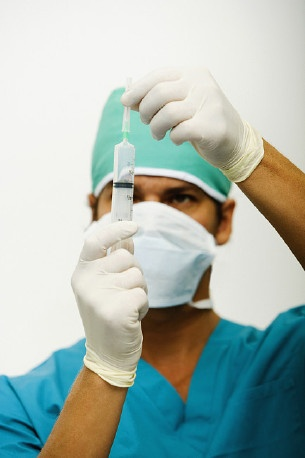Mask: (86, 171, 223, 308)
